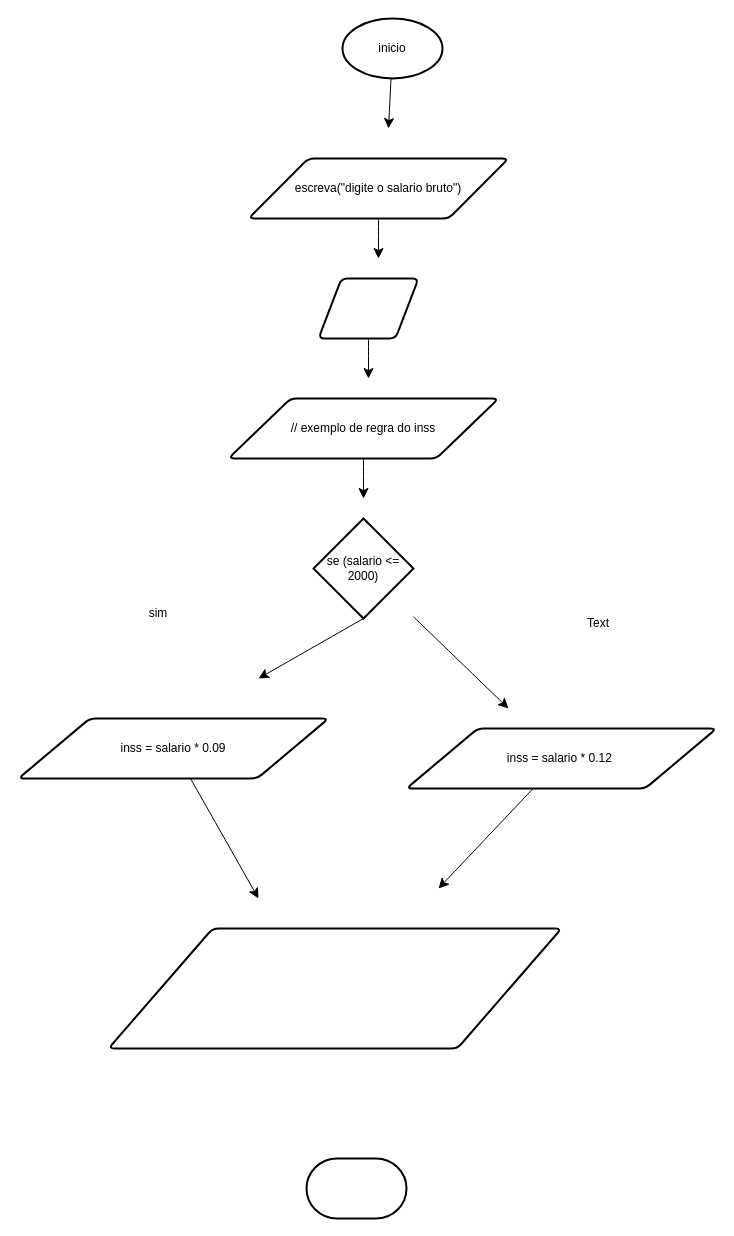
Image size: 734x1236. Some labels were removed from this diagram. The shapes that lost their labels are listed below. From the top down, each one's box as (x1, y1, x2, y2) in pixels, then its label:
(317, 277, 419, 339): leia(salario)
(107, 927, 562, 1049): escreva("digite outros descontos:")
(305, 1157, 407, 1219): fim
